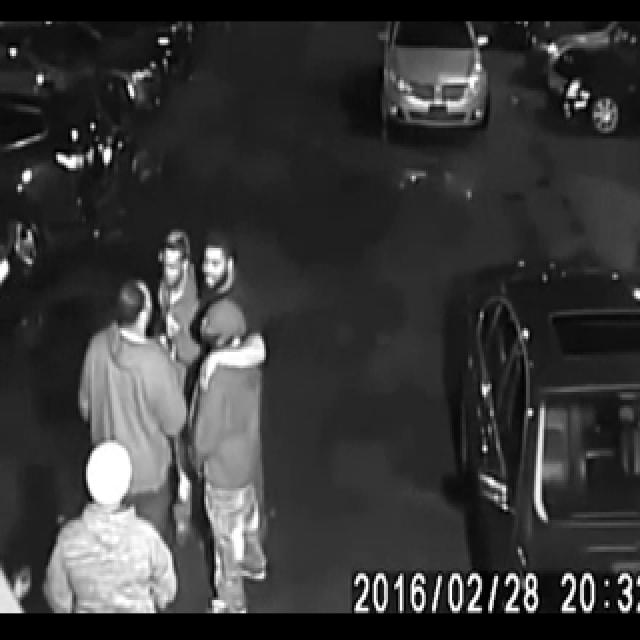shooting: (103, 103, 353, 584)
